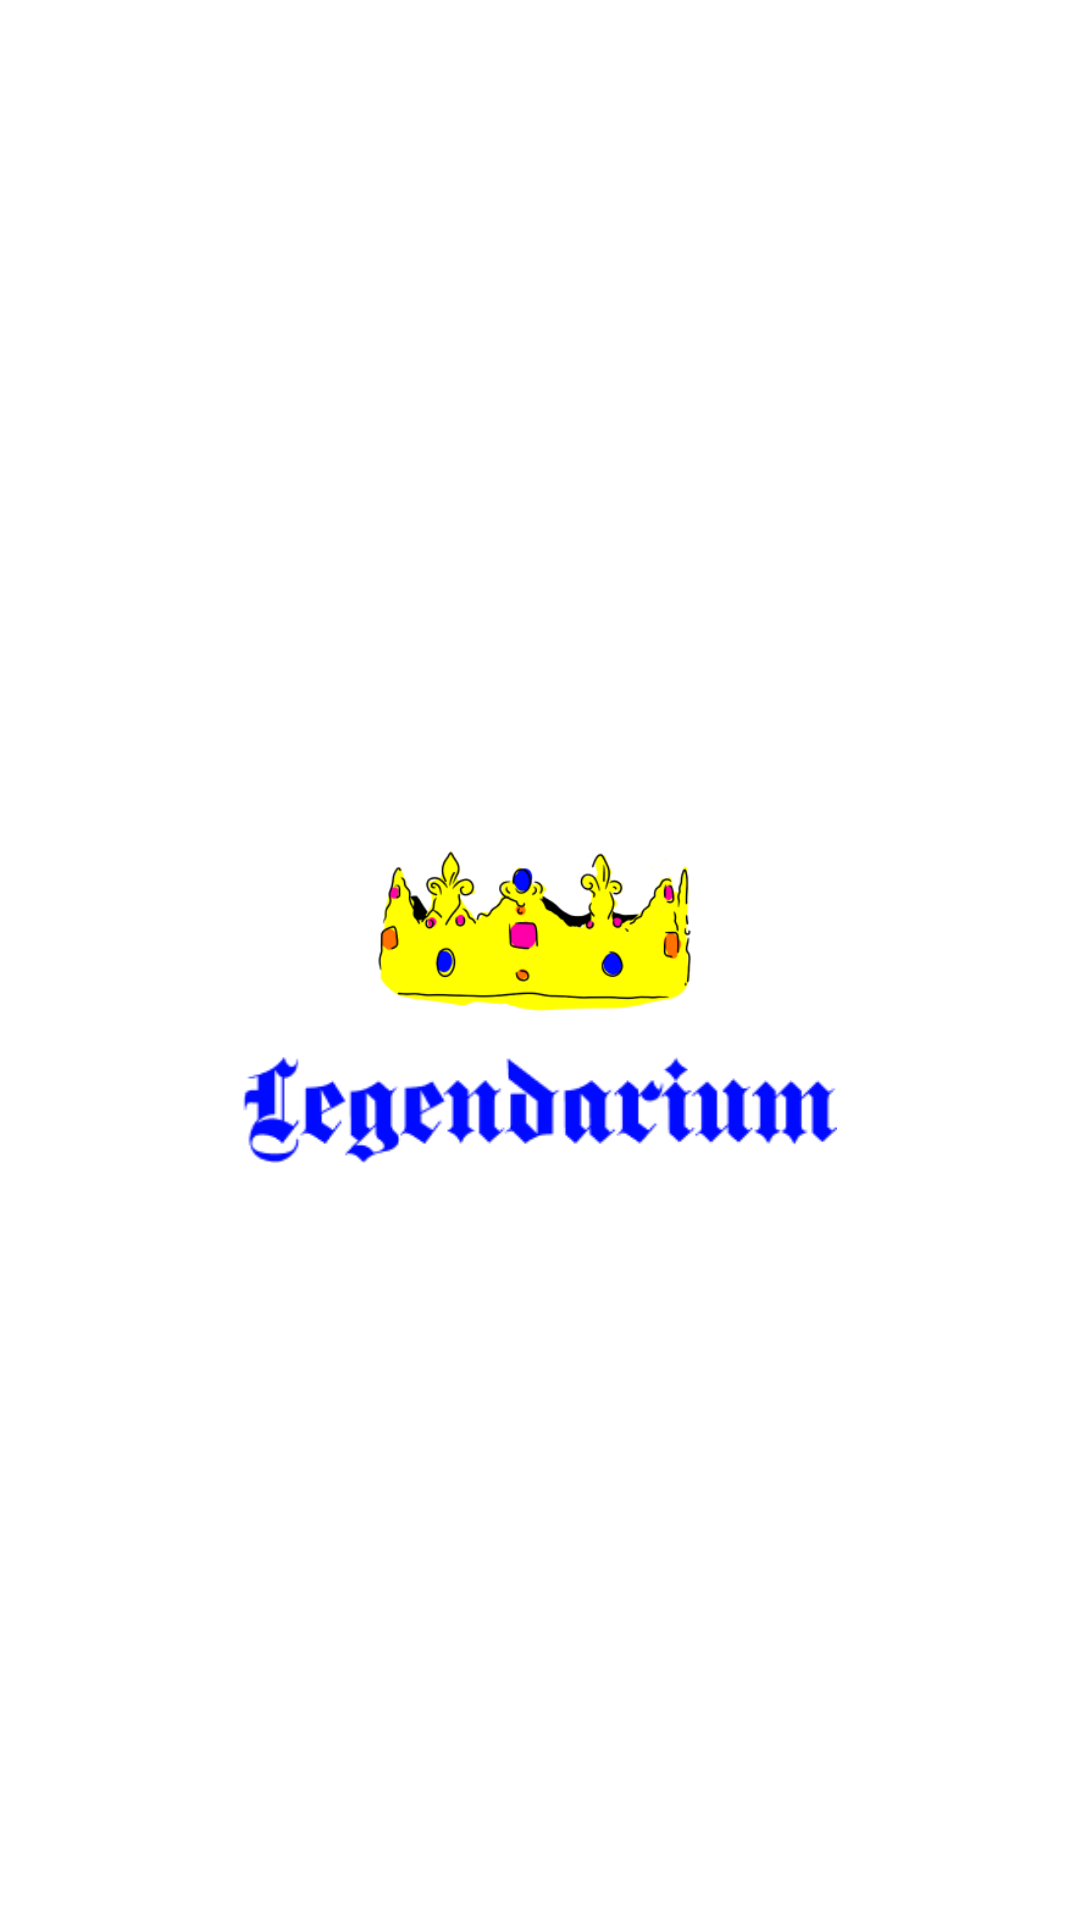

Icon click points for this 1080×1920 phone screenshot, format (x,y):
Crown: (534,930)
